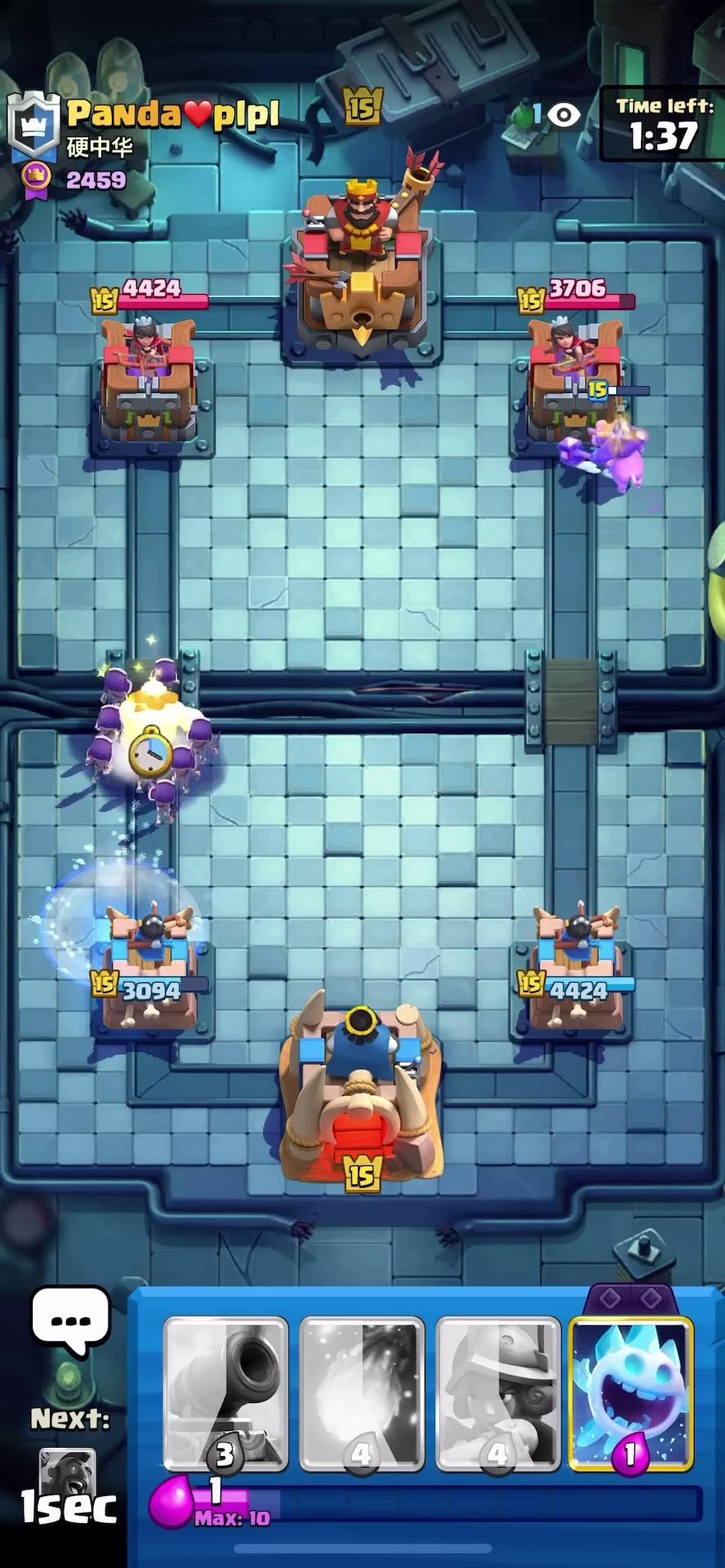evo_skeletons: (149, 717, 229, 839), (92, 653, 188, 696), (88, 704, 120, 778)
hog_rider: (569, 398, 665, 490)
ice_golem: (106, 680, 200, 747)
